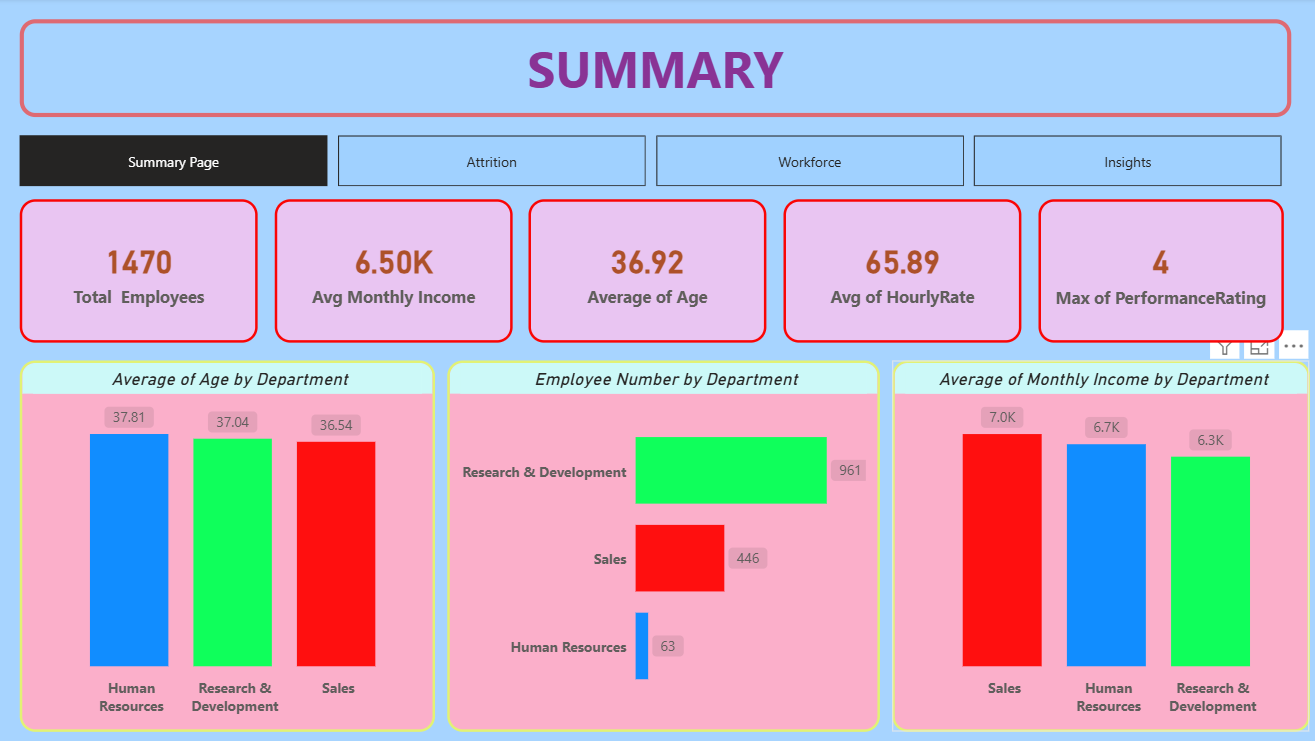

This screenshot's page, from the dashboard's own definition file:
{"tool":"powerbi","page":{"name":"Summary Page","canvas":[1280,720],"ordinal":0},"visuals":[{"type":"card","fields":{"Values":["CountNonNull(analytics_present hr_d.EmployeeNumber)"]},"box":[22.9,194.3,229.9,138.2],"z":0,"group":"g1"},{"type":"barChart","title":"Employee Number by Department","fields":{"Category":["analytics_present hr_d.Department"],"Y":["CountNonNull(analytics_present hr_d.EmployeeNumber)"]},"box":[435.5,349.9,417.4,358.3],"z":0},{"type":"card","fields":{"Values":["Avg(analytics_present hr_d.MonthlyIncome)"]},"box":[268.7,194.3,229.9,138.2],"z":1000,"group":"g1"},{"type":"columnChart","fields":{"Category":["analytics_present hr_d.Department"],"Y":["Avg(analytics_present hr_d.Age)"]},"box":[22.9,349.9,400.5,358.3],"z":1000},{"type":"card","fields":{"Values":["Avg(analytics_present hr_d.Age)"]},"box":[514.5,194.3,229.9,138.2],"z":2000,"group":"g1"},{"type":"columnChart","title":"Average of Monthly Income by Department","fields":{"Category":["analytics_present hr_d.Department"],"Y":["Avg(analytics_present hr_d.MonthlyIncome)"]},"box":[865,349.9,403,358.3],"z":2000},{"type":"textbox","box":[22.9,20.5,1227,94.1],"z":3000},{"type":"card","fields":{"Values":["Avg(analytics_present hr_d.HourlyRate)"]},"box":[760.3,194.3,229.9,138.2],"z":3000,"group":"g1"},{"type":"group","id":"g1","title":"Group 1","box":[22.9,194,1219.8,138.7],"z":4000},{"type":"card","fields":{"Values":["Max(analytics_present hr_d.PerformanceRating)"]},"box":[1006.2,194,236.5,138.7],"z":4000,"group":"g1"},{"type":"pageNavigator","box":[22.9,132.7,1219.7,49.5],"z":5000}]}

Visuals, with their boxes in screenshot pixels (x1, y1, x2, y2), scaled from the page's 1280x720 canvas onto the 1315x741 screenshot:
card - CountNonNull(analytics_present hr_d.EmployeeNumber): select_region(24, 200, 260, 342)
"Employee Number by Department" barChart: select_region(447, 360, 876, 729)
card - Avg(analytics_present hr_d.MonthlyIncome): select_region(276, 200, 512, 342)
columnChart - analytics_present hr_d.Department x Avg(analytics_present hr_d.Age): select_region(24, 360, 435, 729)
card - Avg(analytics_present hr_d.Age): select_region(529, 200, 765, 342)
"Average of Monthly Income by Department" columnChart: select_region(889, 360, 1303, 729)
textbox: select_region(24, 21, 1284, 118)
card - Avg(analytics_present hr_d.HourlyRate): select_region(781, 200, 1017, 342)
"Group 1" group: select_region(24, 200, 1277, 342)
card - Max(analytics_present hr_d.PerformanceRating): select_region(1034, 200, 1277, 342)
pageNavigator: select_region(24, 137, 1277, 188)
